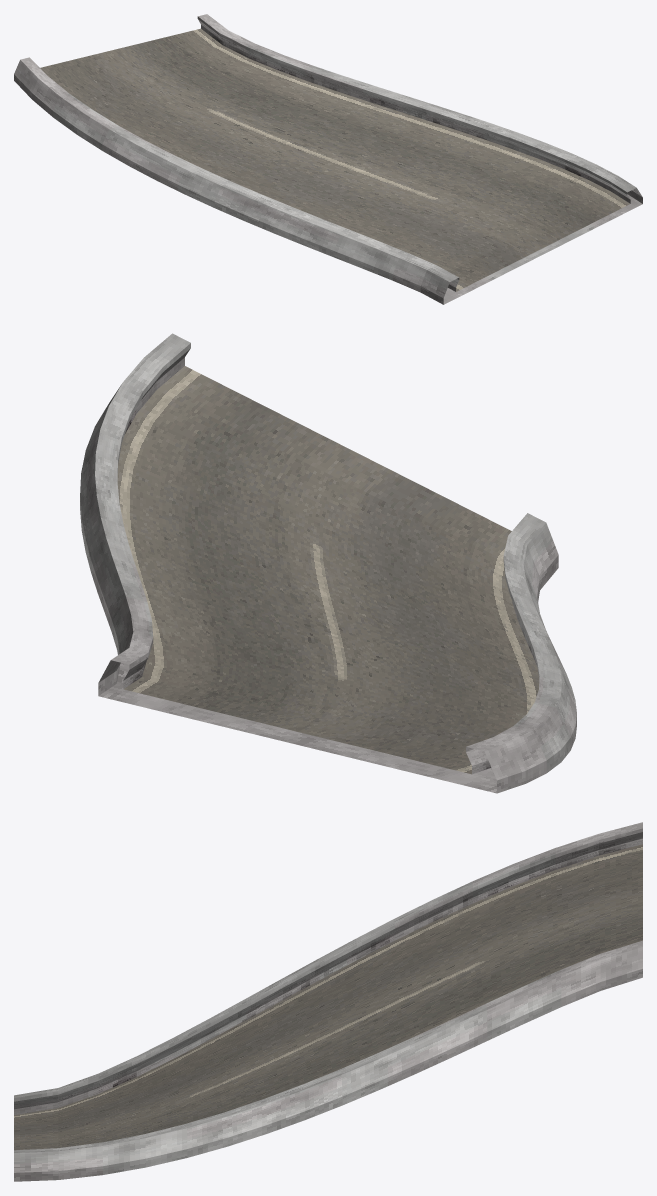
Rendered from chicane-left1x2.glb.
3 views of the same model, one above another, from view 1: azimuth 30°, elevation 25°; view 2: azimuth 150°, elevation 25°; view 3: azimuth 270°, elevation 25° (orthographic). The views are drawn at different scales.
Visible parts, largest first — view 1: road-Chicane-HalfBankedLeft-BiSlopeUp-Up2-Left1-Size2; view 2: road-Chicane-HalfBankedLeft-BiSlopeUp-Up2-Left1-Size2; view 3: road-Chicane-HalfBankedLeft-BiSlopeUp-Up2-Left1-Size2.
Part boxes in pixels (x1=…): road-Chicane-HalfBankedLeft-BiSlopeUp-Up2-Left1-Size2: x1=14, y1=14, x2=642, y2=304; road-Chicane-HalfBankedLeft-BiSlopeUp-Up2-Left1-Size2: x1=80, y1=333, x2=576, y2=793; road-Chicane-HalfBankedLeft-BiSlopeUp-Up2-Left1-Size2: x1=14, y1=822, x2=642, y2=1181.
Size of the model in its own units: 2 by 0.5937 by 2.
Materials: 2 (2 with a texture image).
